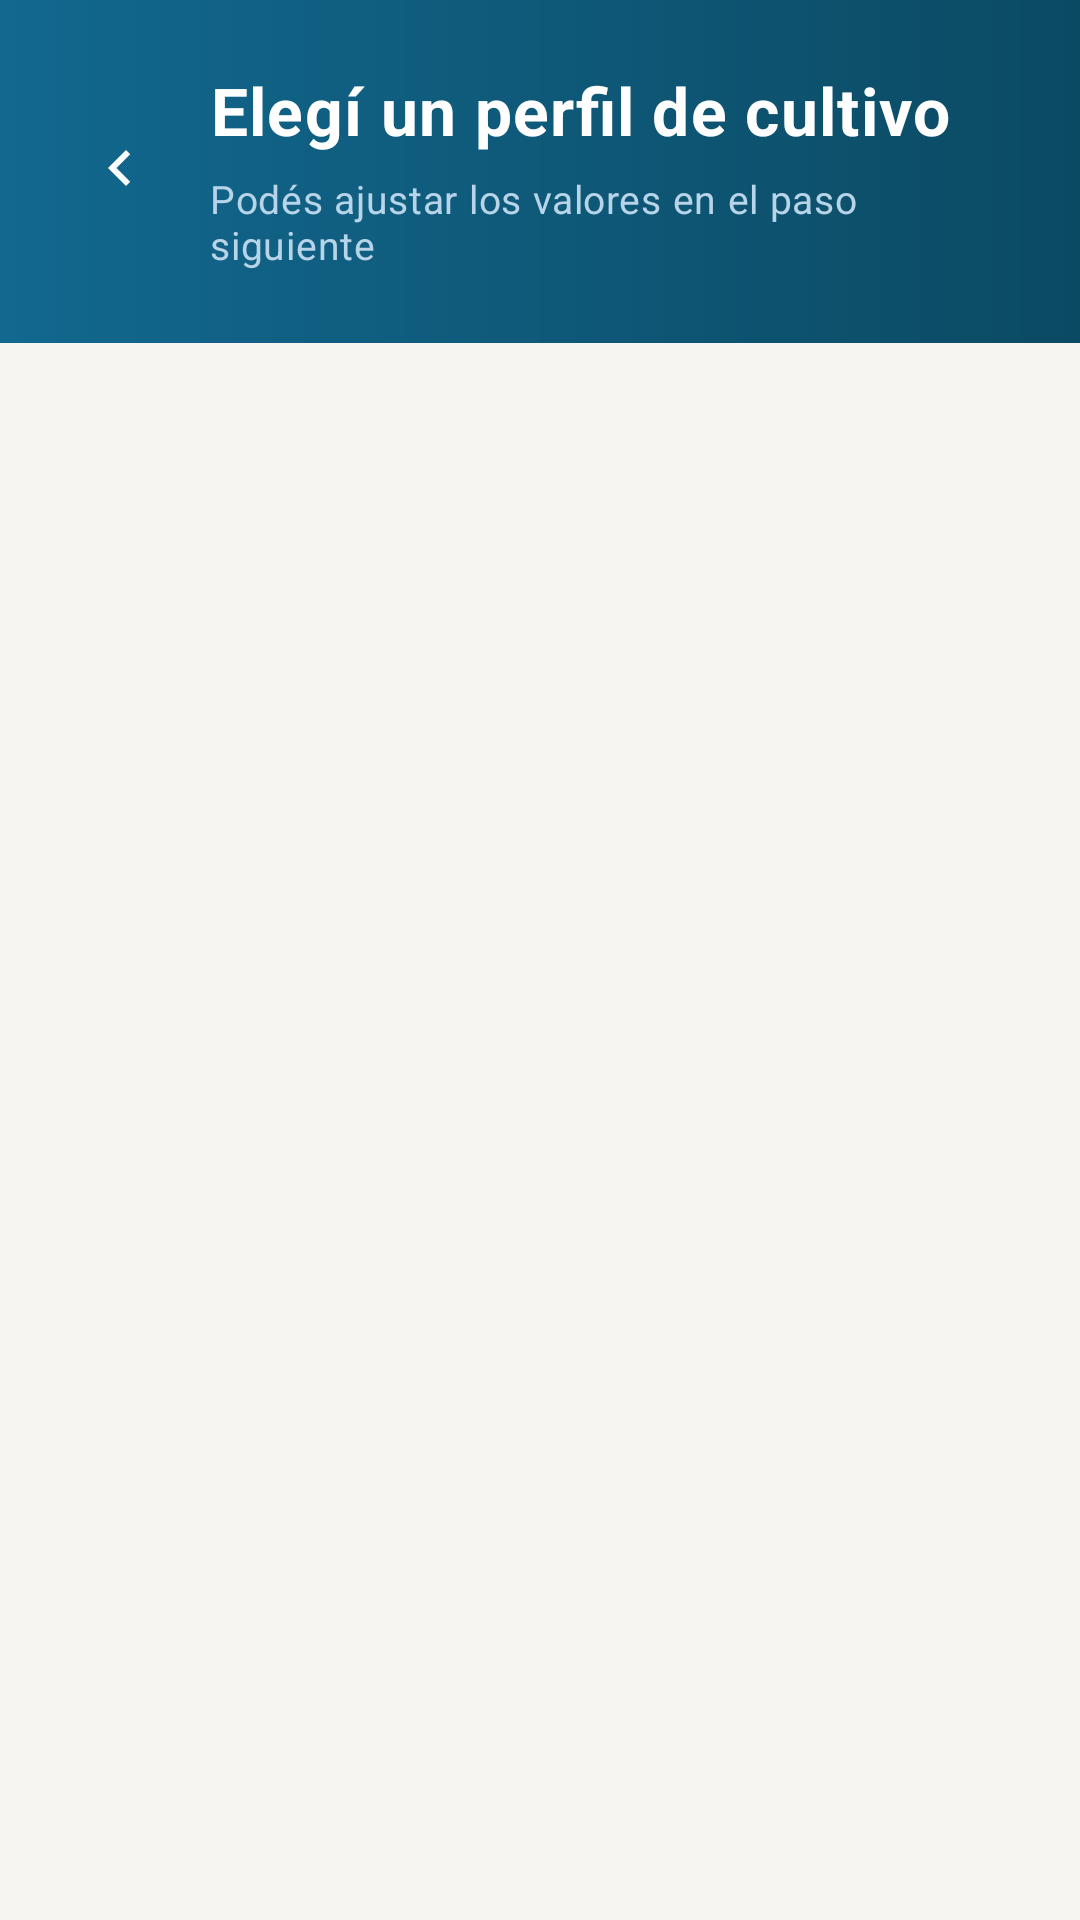

Where to tap for icons on this 1080w x 1920h app screen, as point (x, y):
Volver: point (119, 168)
